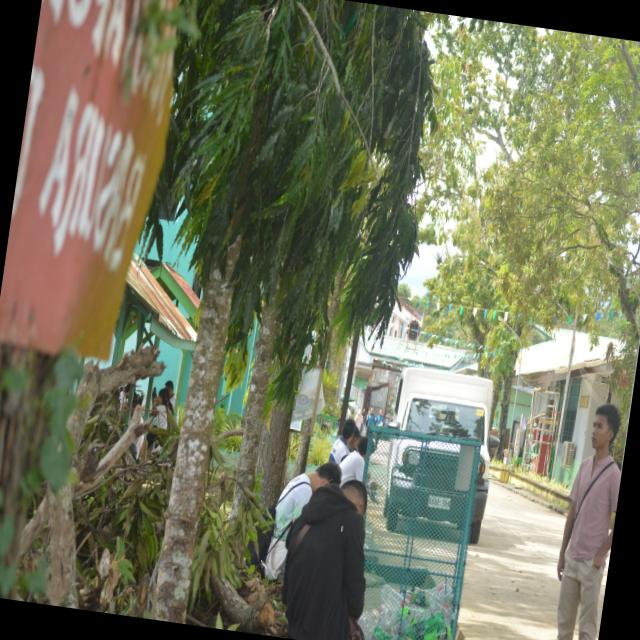person: (556, 404, 621, 639), (281, 481, 366, 639), (263, 462, 340, 579), (339, 436, 367, 485), (329, 418, 358, 464)
